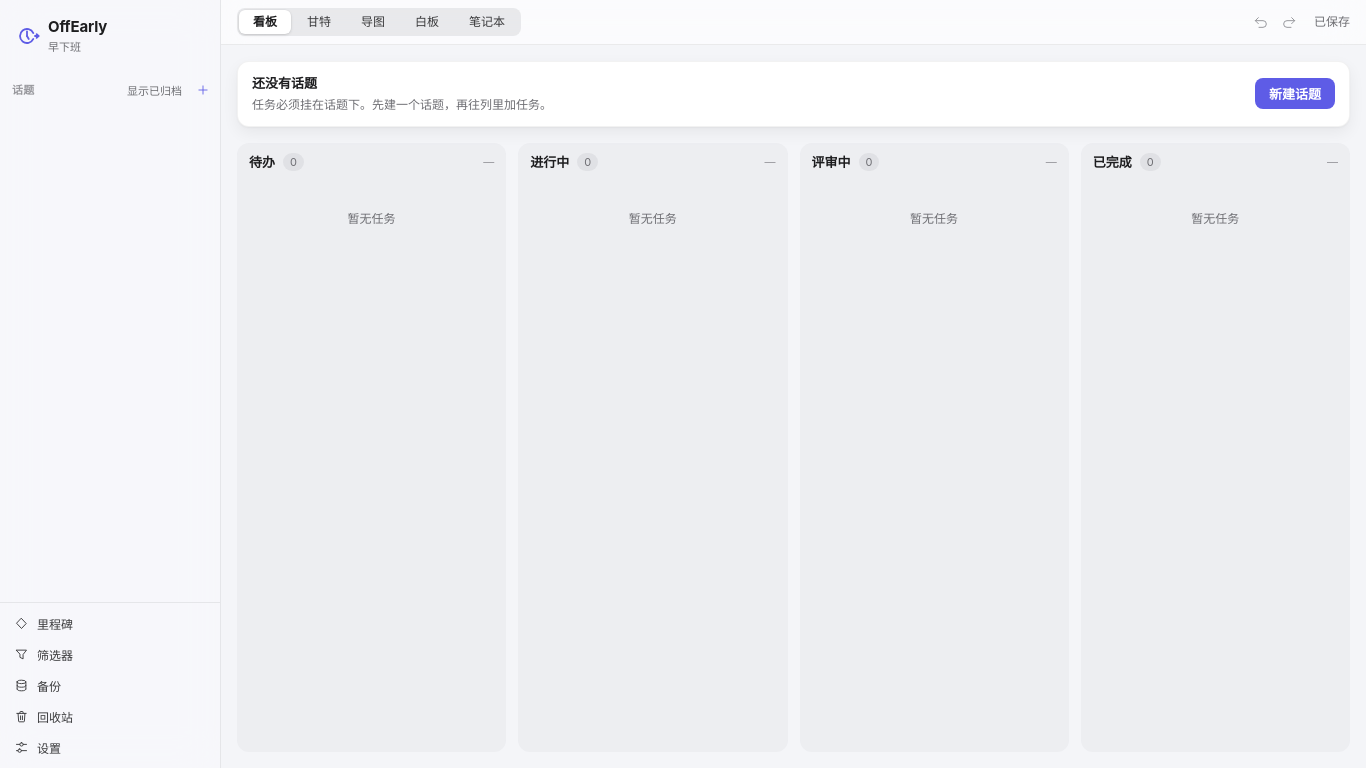
Test case: 切换数据文件夹：选过一次之后仍然能再选一个 › 设置面板显示当前文件夹；换库后新句柄被记住、新库真正生效
The image size is (1366, 768).
Click the button with test id "sidebar-open-settings". click: (110, 748)
box: [6,733,214,762]
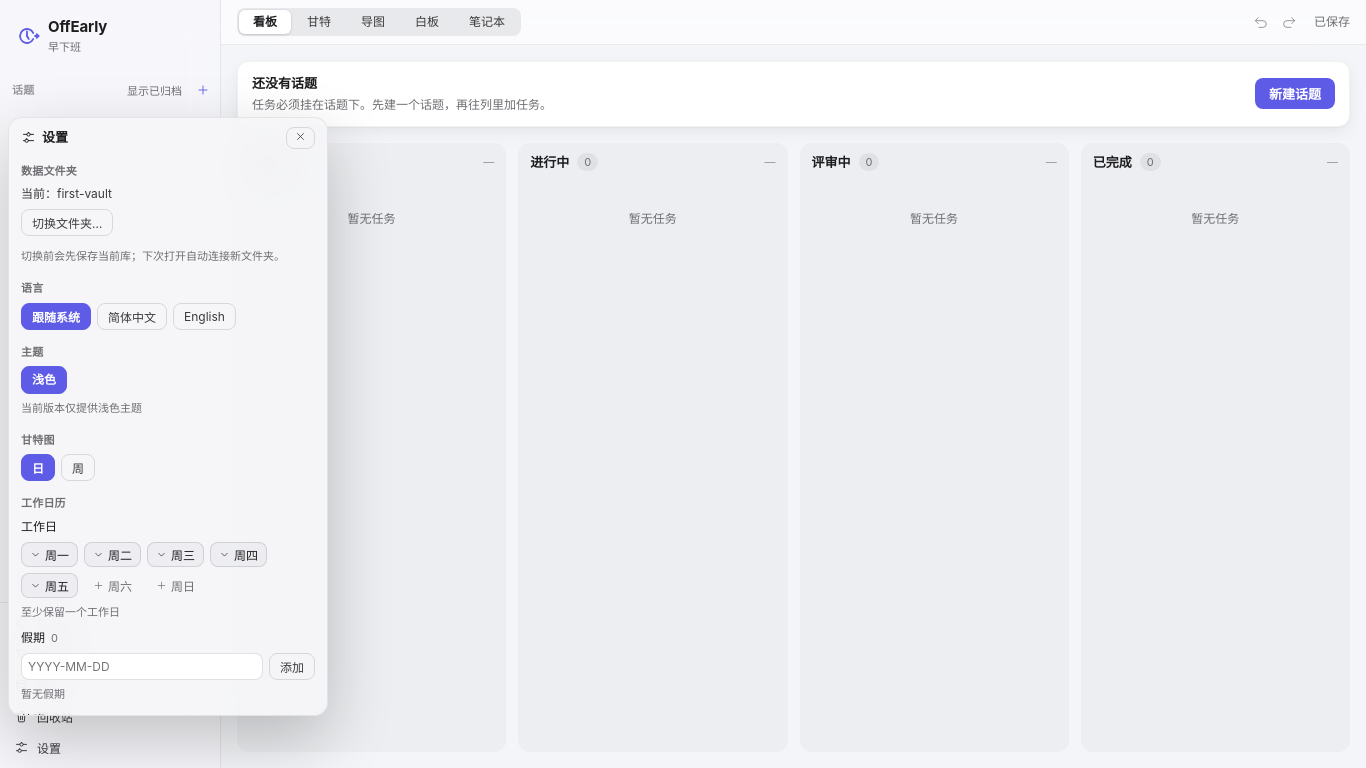
Expected: the element with test id "settings-panel" is shown, [8,117,328,716]
Expected: the text with test id "settings-folder-name" shows "first-vault", [21,186,112,202]
Click the button with test id "settings-folder-switch". click: (67, 223)
box: [21,210,113,236]
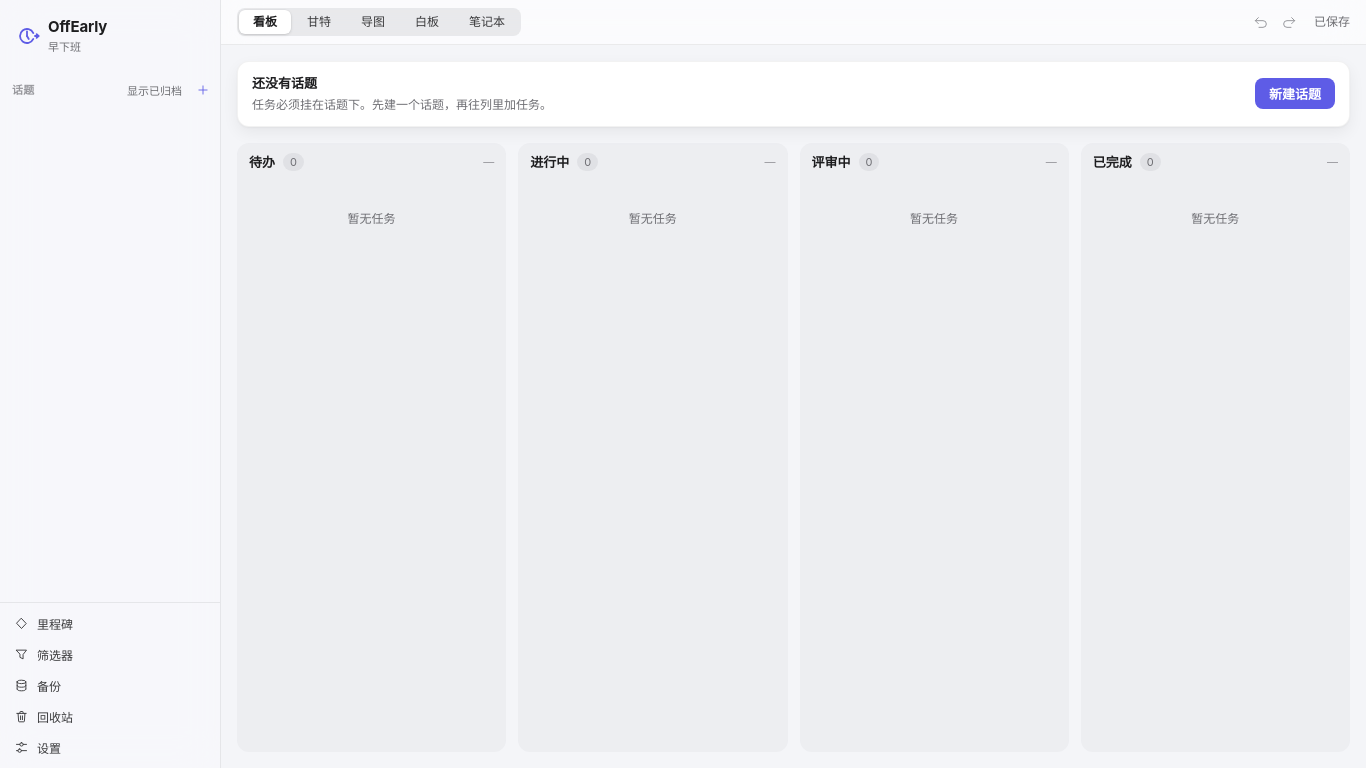
Click the button with test id "sidebar-open-settings". click: (110, 748)
box: [6,733,214,762]
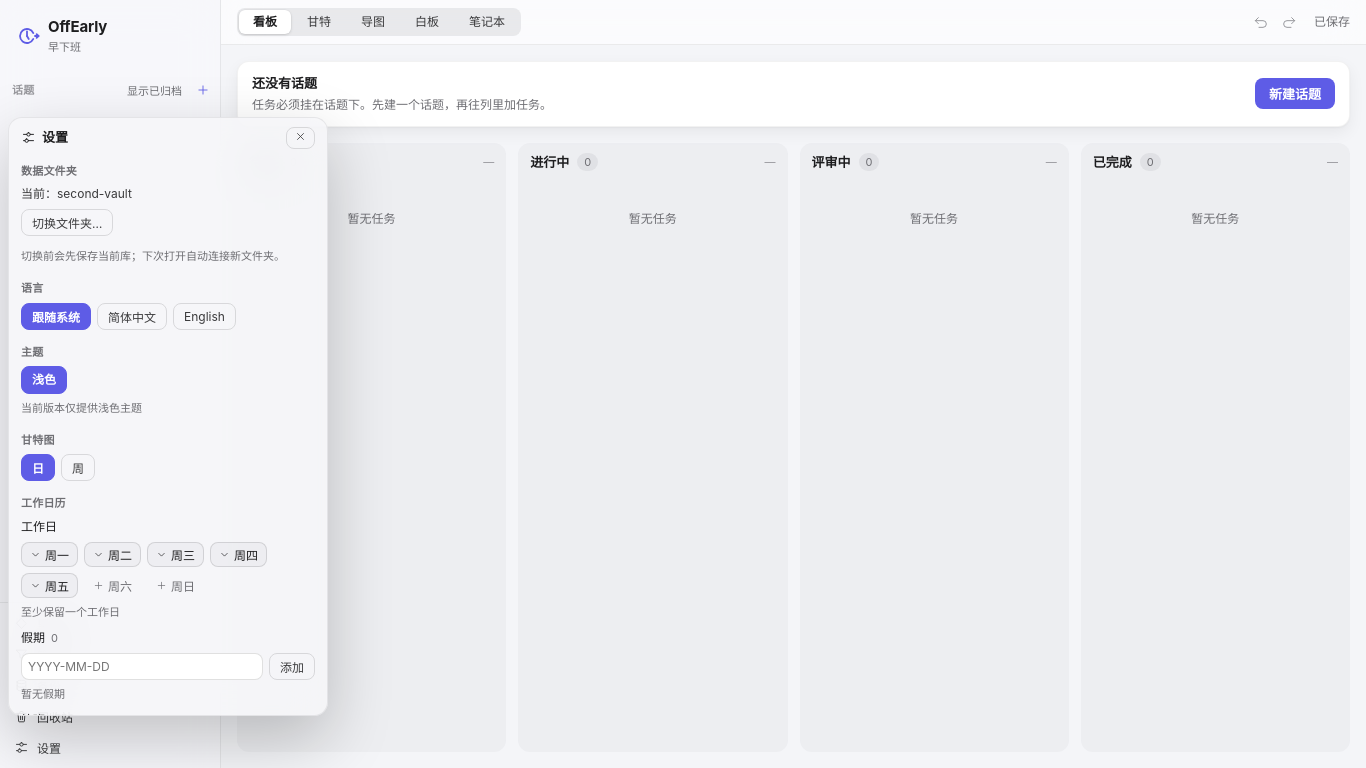
Expected: the element with test id "settings-panel" is shown, [8,117,328,716]
Expected: the text with test id "settings-folder-name" shows "second-vault", [21,186,132,202]
